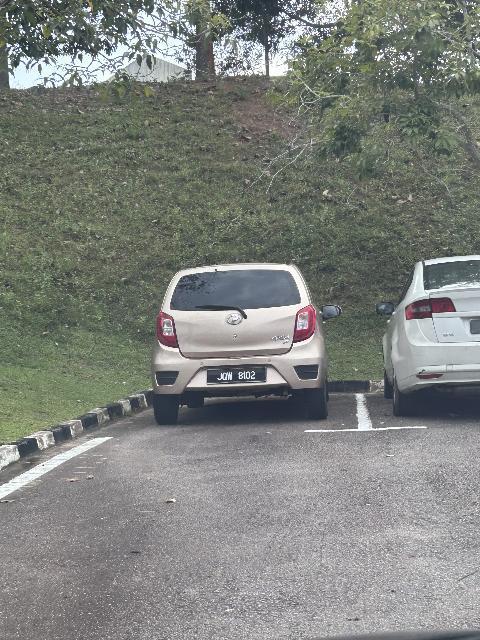JQW8102: (206, 367, 271, 385)
License_Plate: (206, 367, 271, 385)
car: (147, 265, 335, 425), (378, 246, 480, 401)
